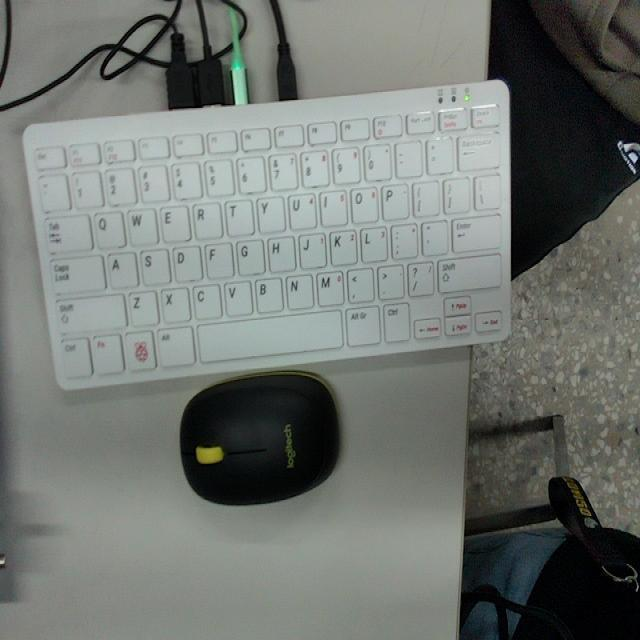keyboard: (25, 98, 505, 384)
